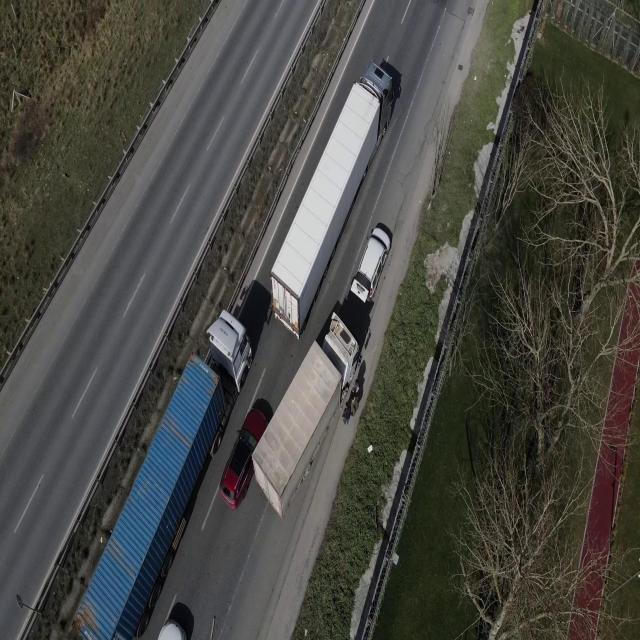p3rson: (342, 400, 351, 426), (350, 394, 359, 416), (353, 378, 360, 394)
